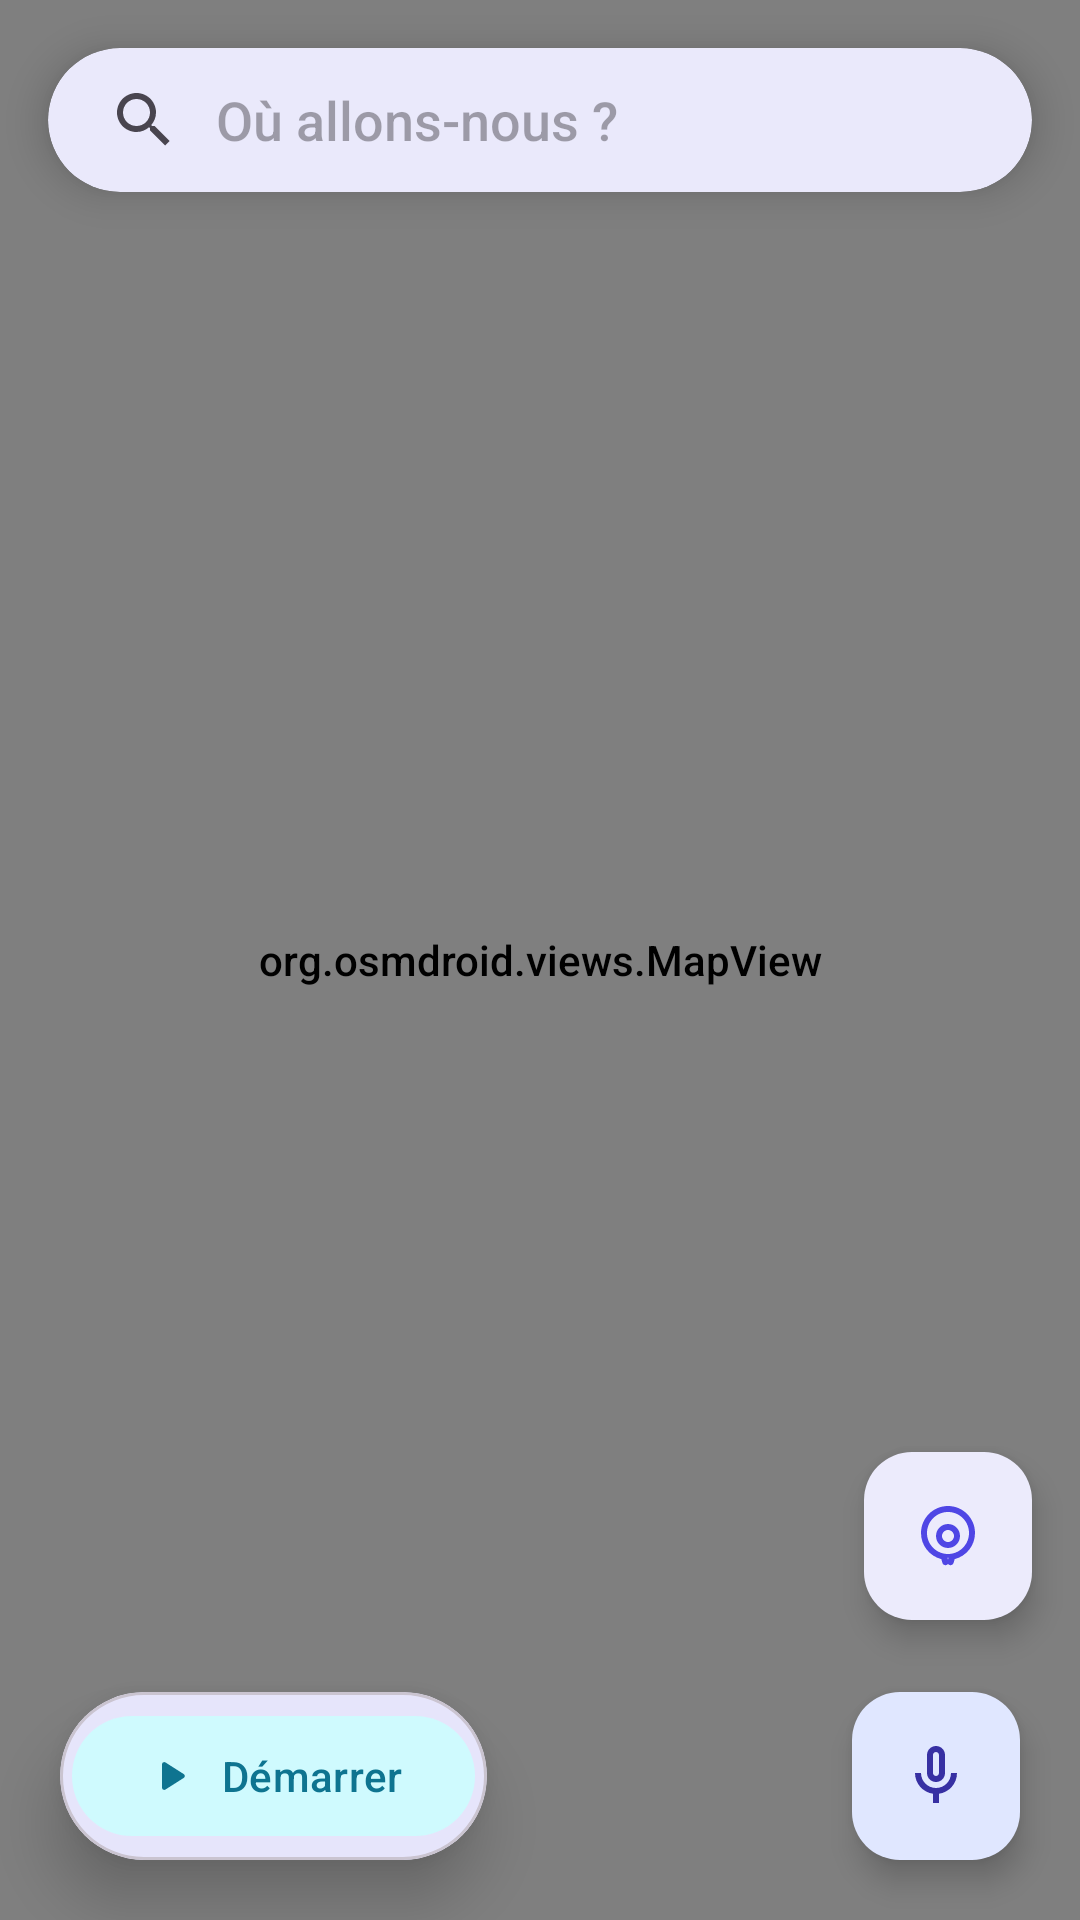

Screen size 1080 × 1920. Icon name, then its center in pixels as [x,y]:
Recentrer: [948,1536]
Voix: [936,1776]
